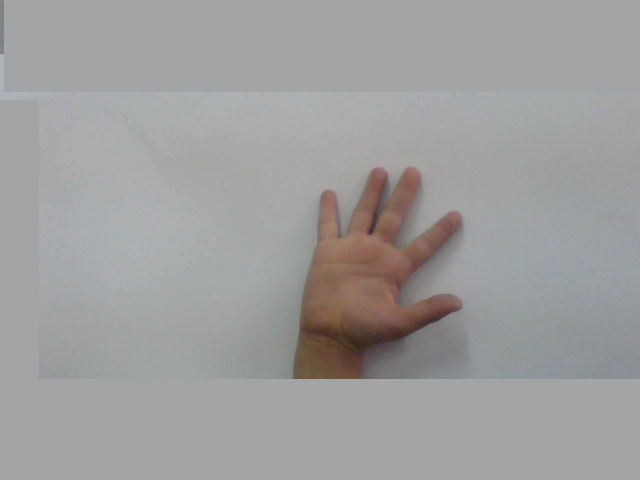hand: (299, 159, 473, 343)
